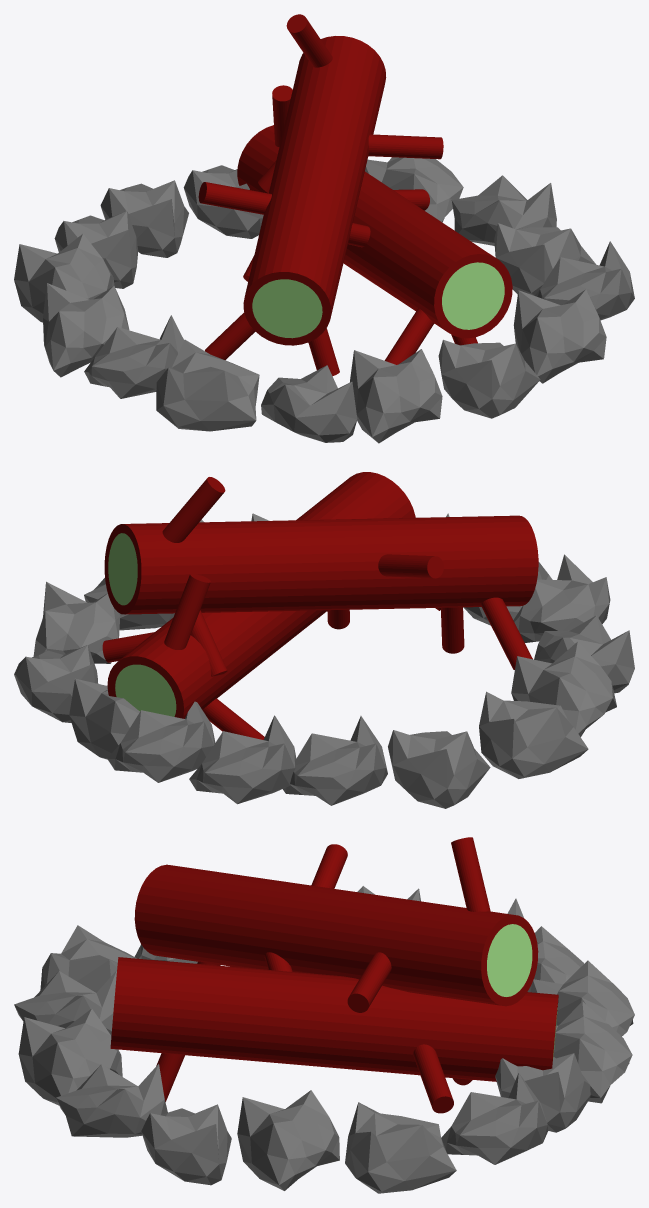
Rendered from campfire base.fbx.
3 renders of one model, top to bottom at view 1: azimuth 30°, elevation 25°; view 2: azimuth 150°, elevation 25°; view 3: azimuth 270°, elevation 25°, orthographic. The views are drawn at different scales.
Visible parts, largest first — view 1: campfire base; view 2: campfire base; view 3: campfire base.
Boxes of the visible parts, x1,y1,x2,y2 form: campfire base: [14, 14, 634, 443]; campfire base: [14, 472, 634, 808]; campfire base: [14, 837, 634, 1193].
Bounding box in the file's own units: 235 × 113 × 234.
